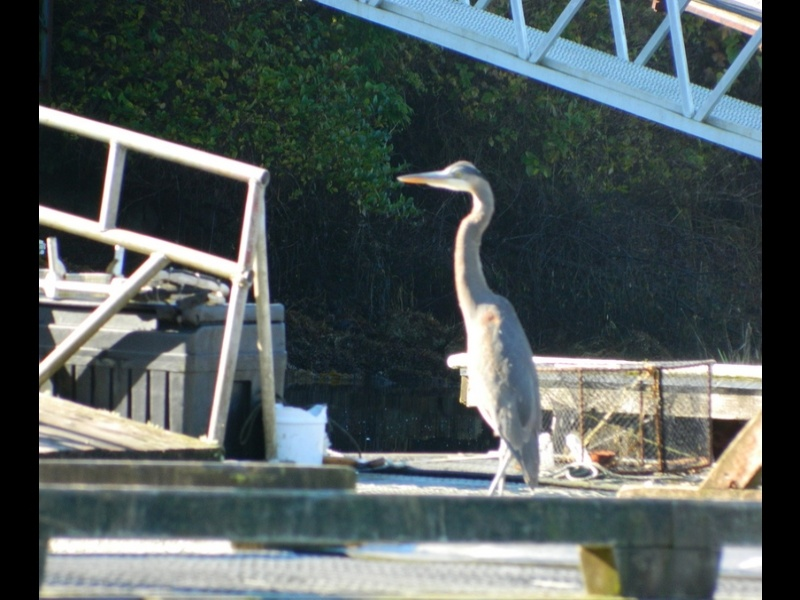heron: (392, 151, 547, 499)
